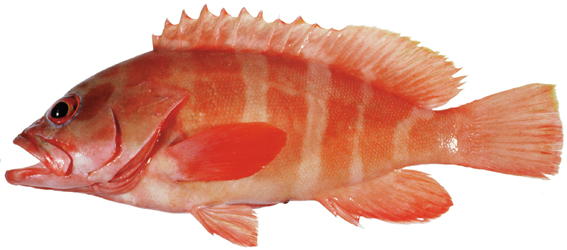fish: (4, 4, 564, 247)
